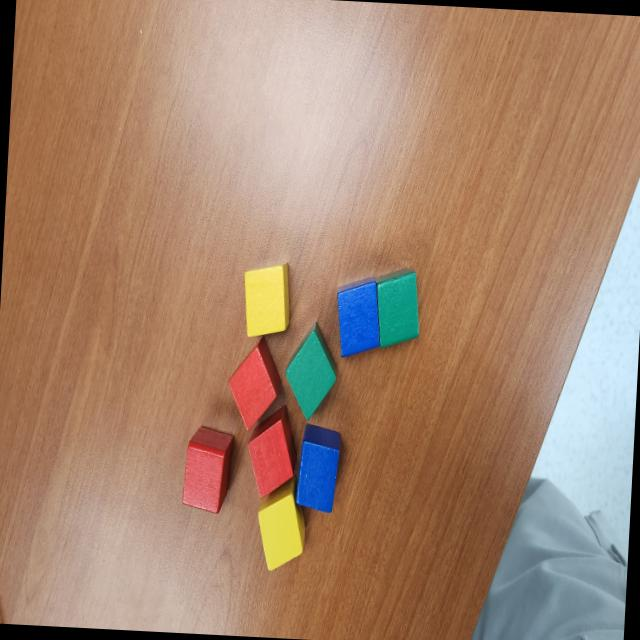blue: (294, 422, 342, 514), (334, 275, 383, 360)
green: (282, 319, 340, 422), (373, 266, 422, 352)
red: (226, 335, 285, 435), (244, 403, 300, 500), (182, 425, 236, 515)
yellow: (254, 473, 308, 573), (241, 260, 293, 338)
